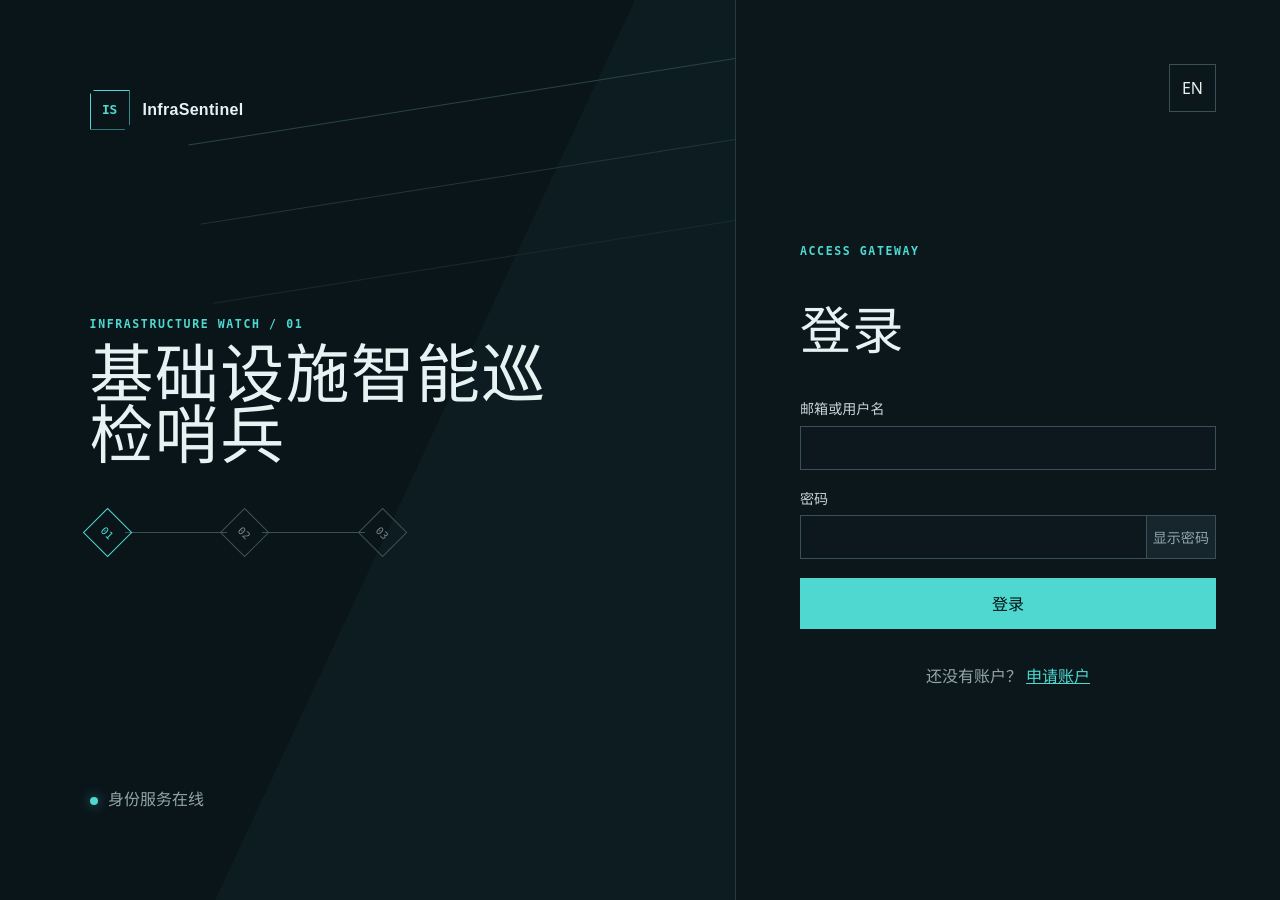
Test: anonymous operator can sign in and reach the inspection desk
This screenshot has width=1280, height=900.
Type "operator" into the field labelled "邮箱或用户名" at (1008, 448), box [800,426,1216,470]
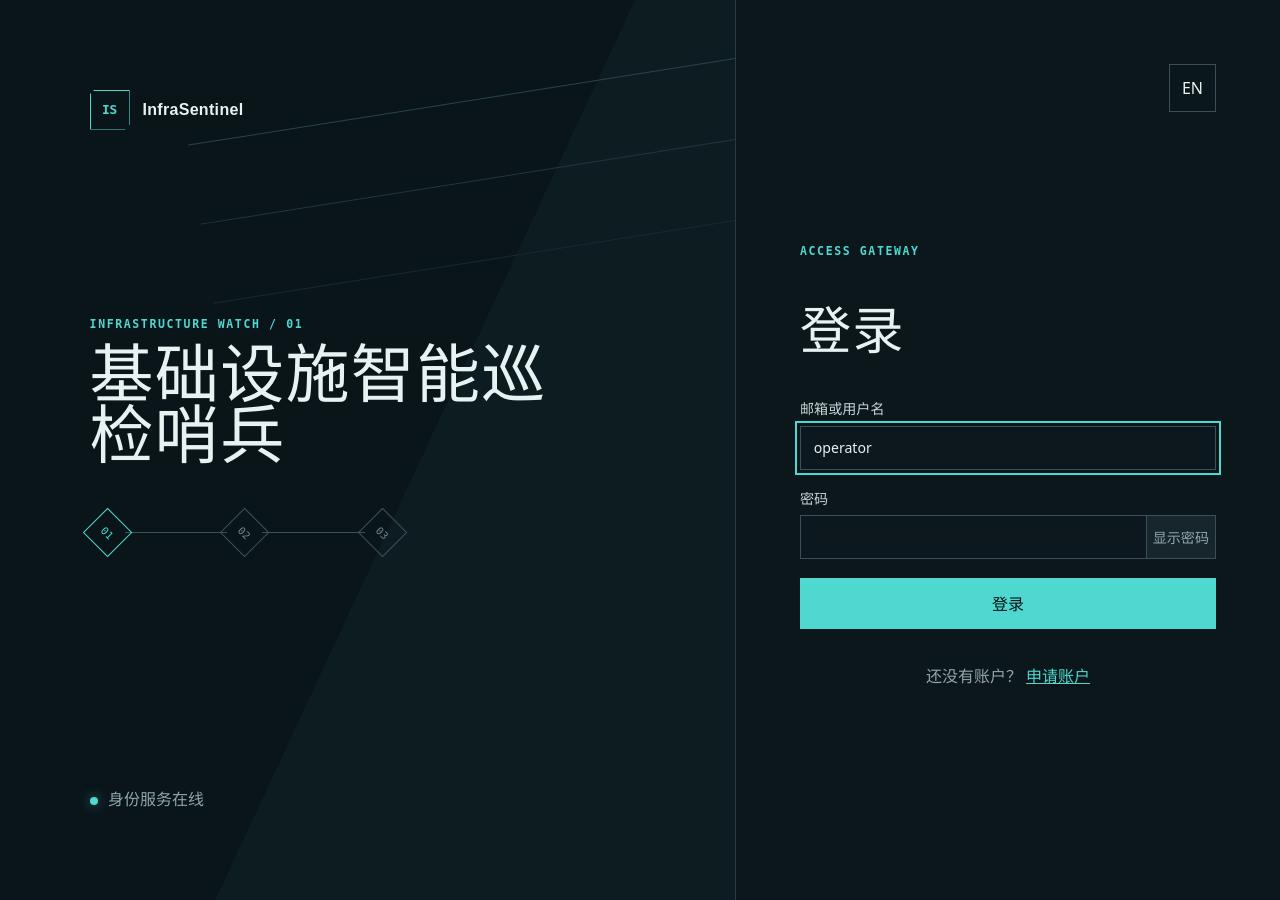
Type "correct horse battery staple" into the password field labelled "密码" at (973, 537), box [800,515,1146,559]
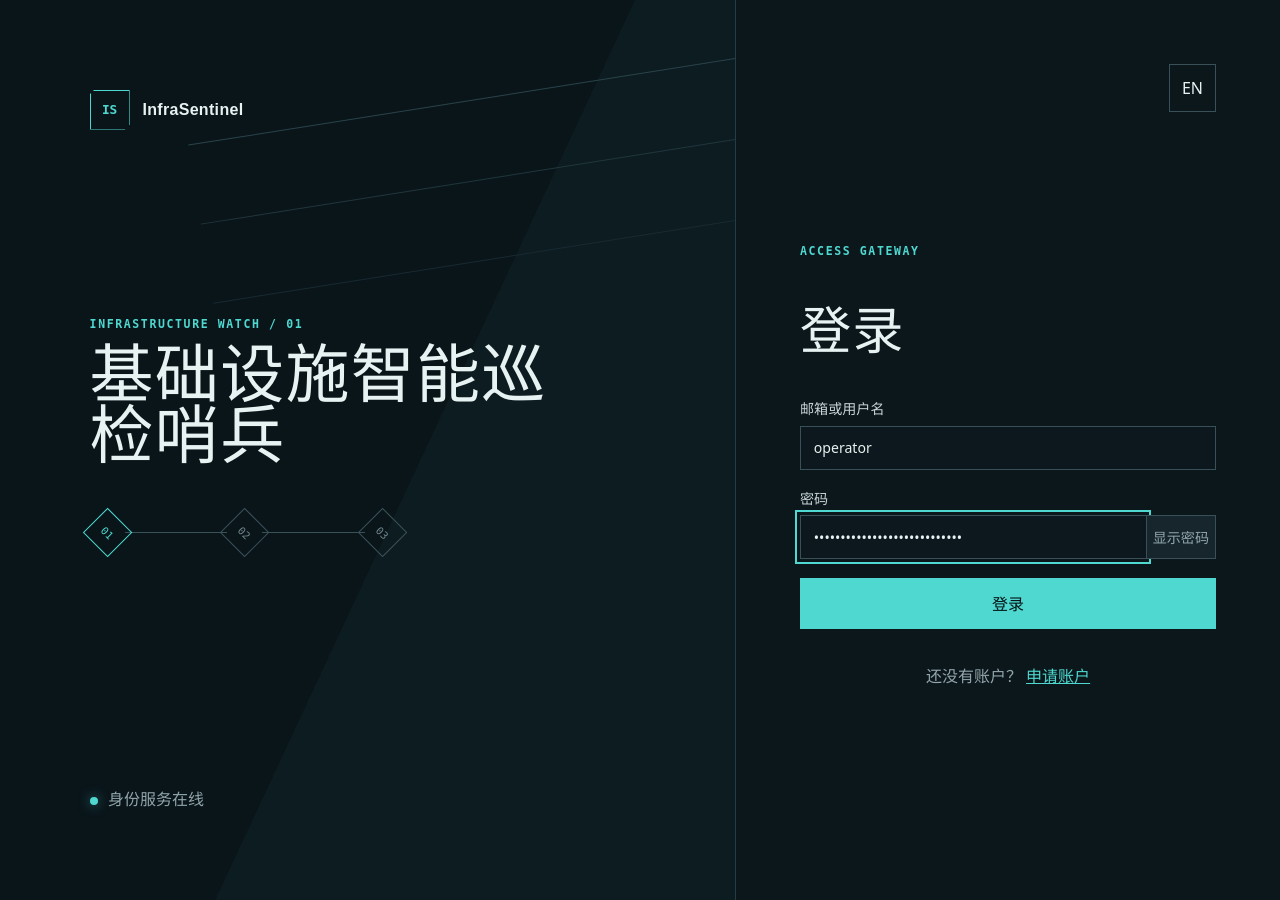
Click the button "登录" at (1008, 603), box [800,578,1216,628]
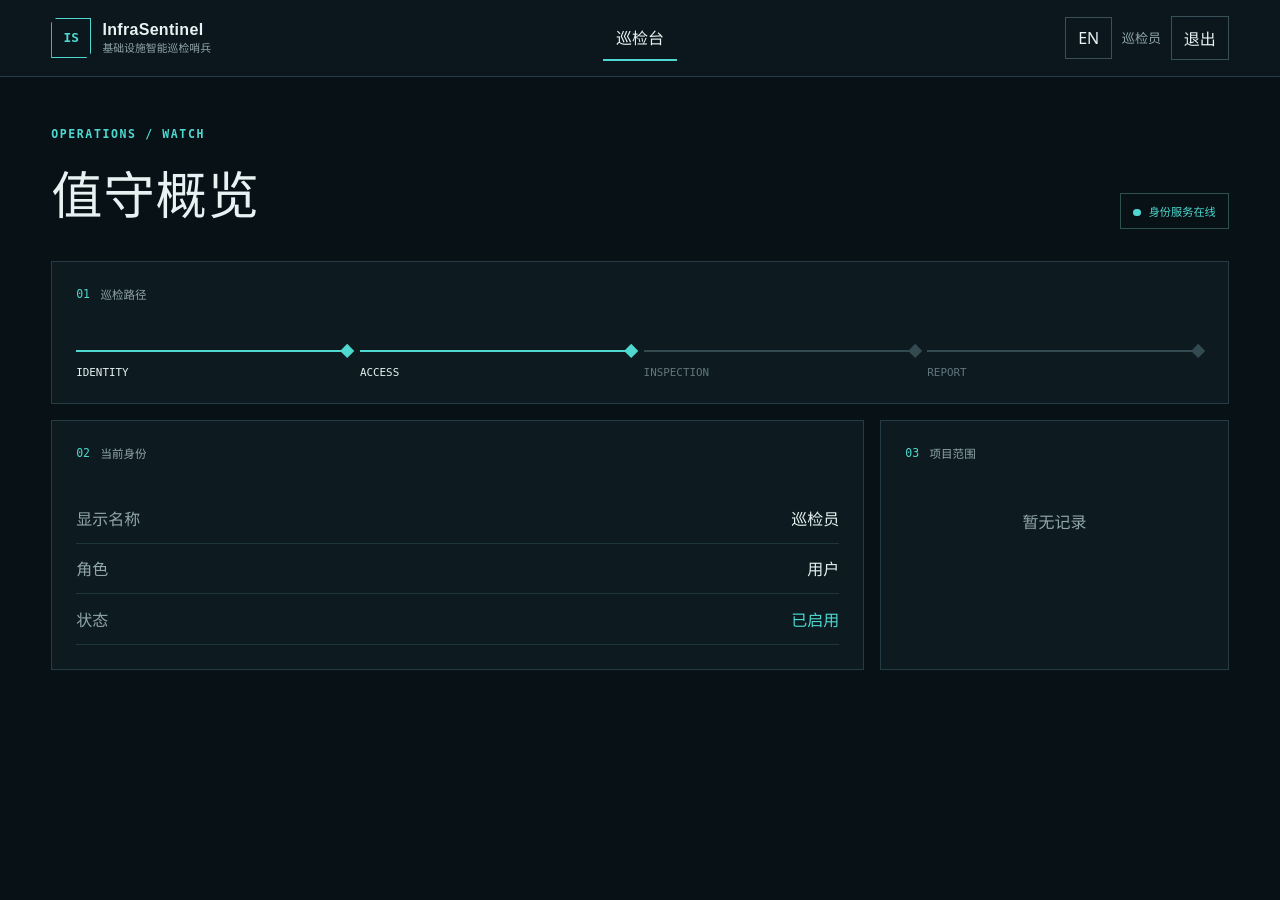
Now the heading "值守概览" is shown, box [51,155,260,229]
